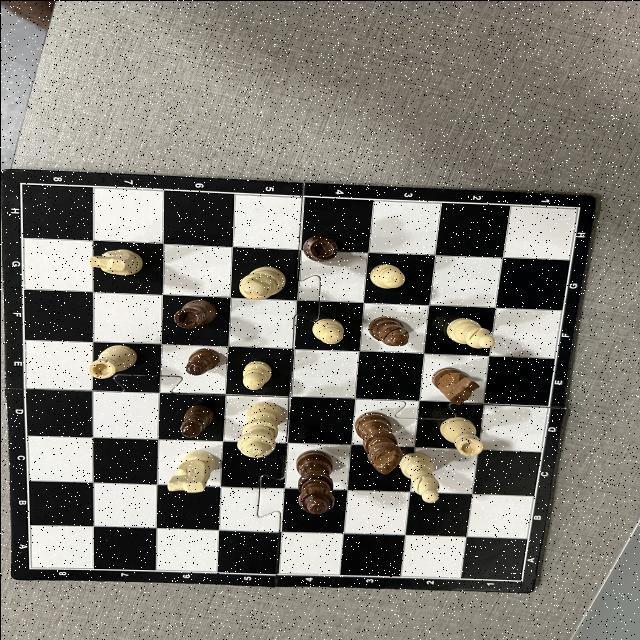Black-Bishop: (367, 316, 407, 346)
Black-King: (354, 410, 399, 472)
Black-Knight: (431, 366, 478, 404)
Black-Pawn: (180, 405, 213, 437), (186, 348, 218, 375)
Black-Queen: (295, 450, 333, 514)
Black-Rook: (173, 299, 216, 328), (302, 235, 336, 261)
White-Bishop: (399, 452, 438, 502), (445, 317, 493, 348)
White-King: (238, 266, 285, 300)
White-Knight: (167, 450, 214, 492), (90, 248, 141, 275)
White-Pawn: (369, 264, 404, 288), (312, 318, 344, 344), (242, 361, 270, 388)
White-Queen: (235, 402, 282, 457)
White-Rook: (438, 416, 481, 455), (89, 343, 135, 378)
